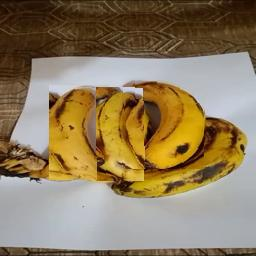Banana Semifresh: (124, 77, 205, 169), (49, 85, 109, 180), (97, 87, 145, 181)
